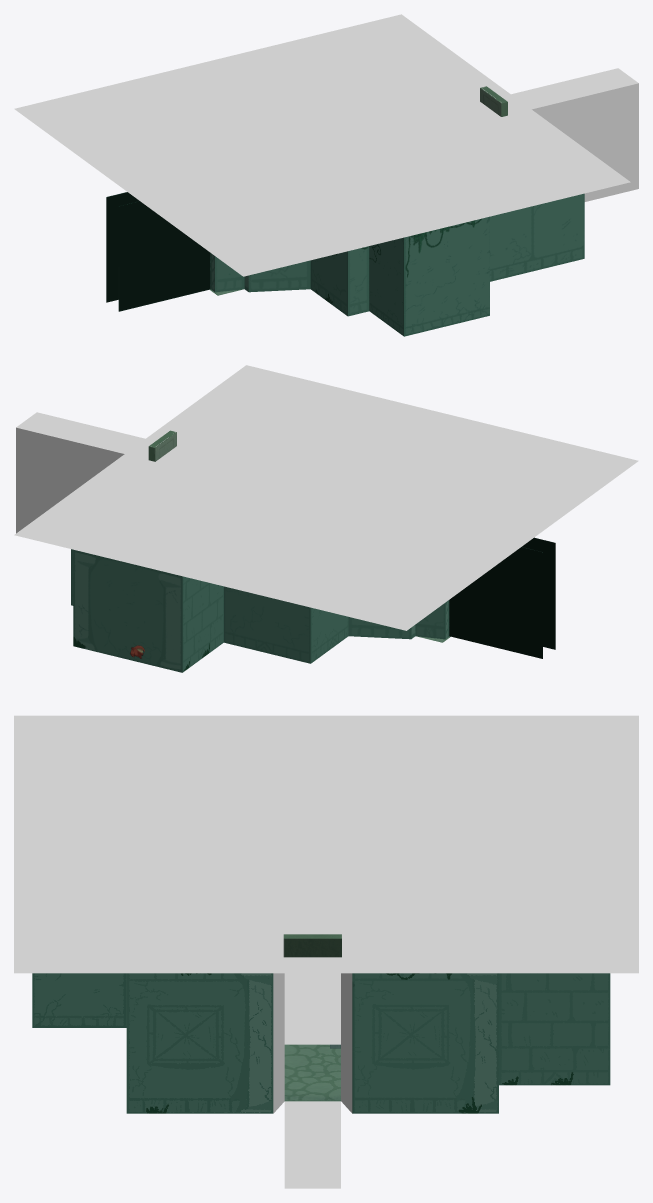
The model's file is Fackla.V1.fbx.
3 views of the same model, one above another, from view 1: azimuth 30°, elevation 25°; view 2: azimuth 150°, elevation 25°; view 3: azimuth 270°, elevation 25° (orthographic). The views are drawn at different scales.
Parts seen in each view (by area): view 1: Tak, Väggar, Ingång, Dörr; view 2: Tak, Väggar, Ingång, Dörr; view 3: Tak, Väggar, Ingång, Golv, Dörr.
Part boxes in pixels (box(x1,y1,x2,y2)): Tak: box(14, 14, 630, 276); Väggar: box(106, 192, 584, 336); Ingång: box(503, 68, 638, 201); Dörr: box(480, 86, 507, 116); Tak: box(14, 365, 638, 630); Väggar: box(71, 537, 555, 672); Ingång: box(16, 412, 150, 533); Dörr: box(148, 430, 176, 461); Tak: box(14, 715, 638, 973); Väggar: box(32, 973, 610, 1113); Ingång: box(273, 957, 352, 1188); Golv: box(284, 1044, 340, 1101); Dörr: box(283, 934, 341, 957).
Size of the model in its own units: 2556 by 578 by 1967.
